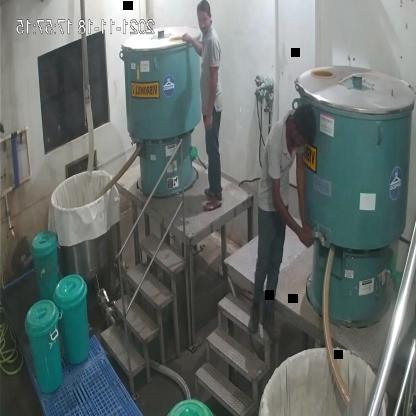no_glove: (271, 168, 308, 251), (202, 62, 219, 134)
no_shoes: (204, 196, 222, 212)
shoes: (246, 302, 262, 338)
